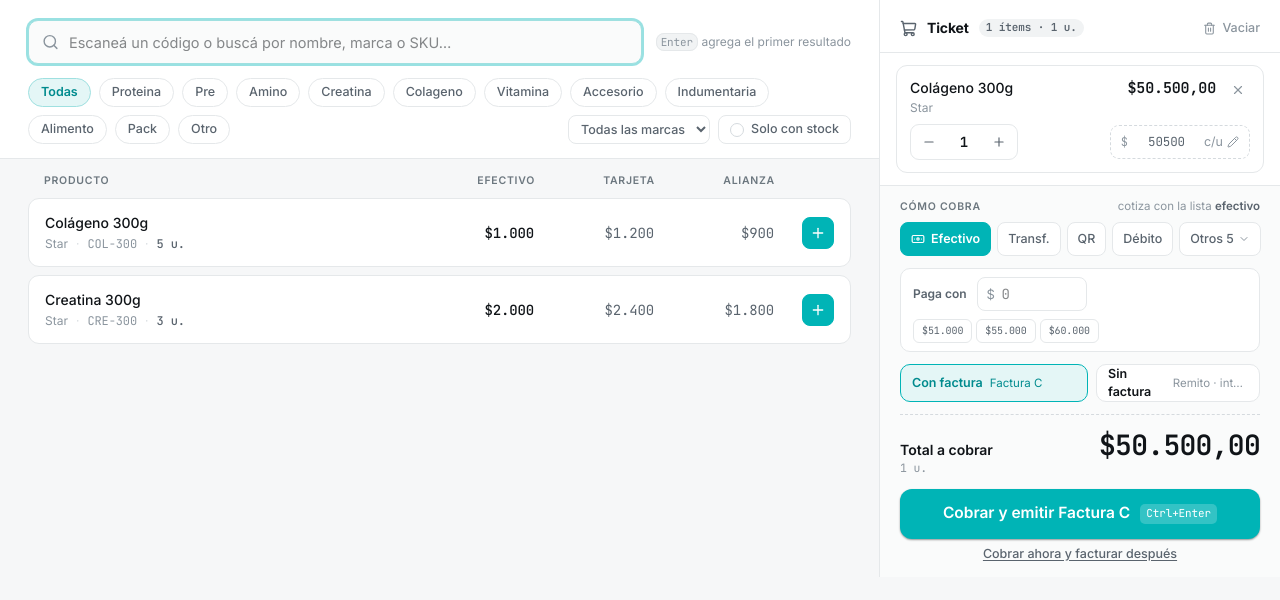
Test: El vuelto que se dibuja sale de utils/vuelto › un «Paga con» menor al total dice cuánto FALTA, y no un vuelto negativo
Type "47300" into the number field with placeholder "0" at [1032, 294], box x1=977 y1=277 x2=1087 y2=311
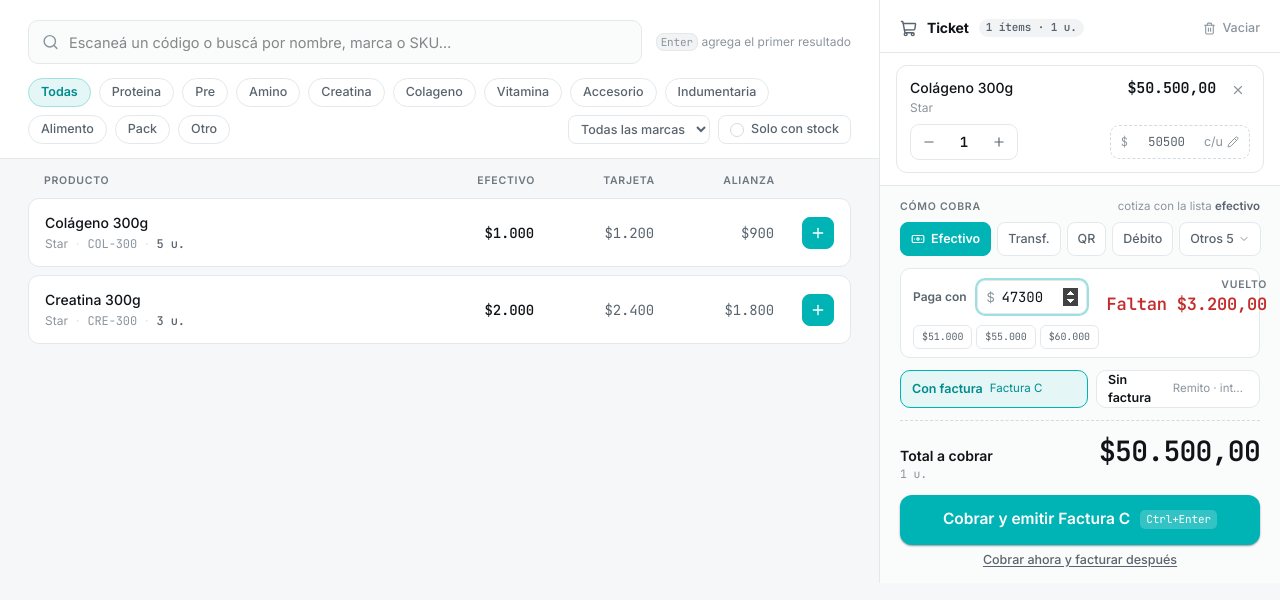
Result: the text "Faltan $3.200,00" is shown at x1=1107 y1=292 x2=1267 y2=317
